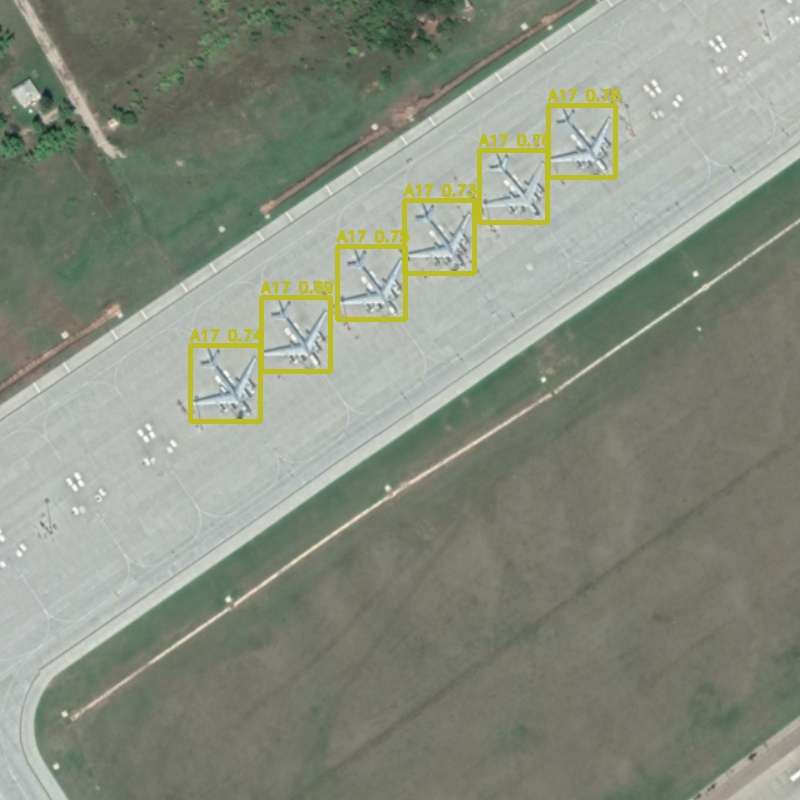A17: (190, 345, 260, 421), (404, 200, 474, 273), (261, 297, 330, 371), (337, 246, 405, 319), (479, 150, 547, 222), (548, 105, 615, 177)
